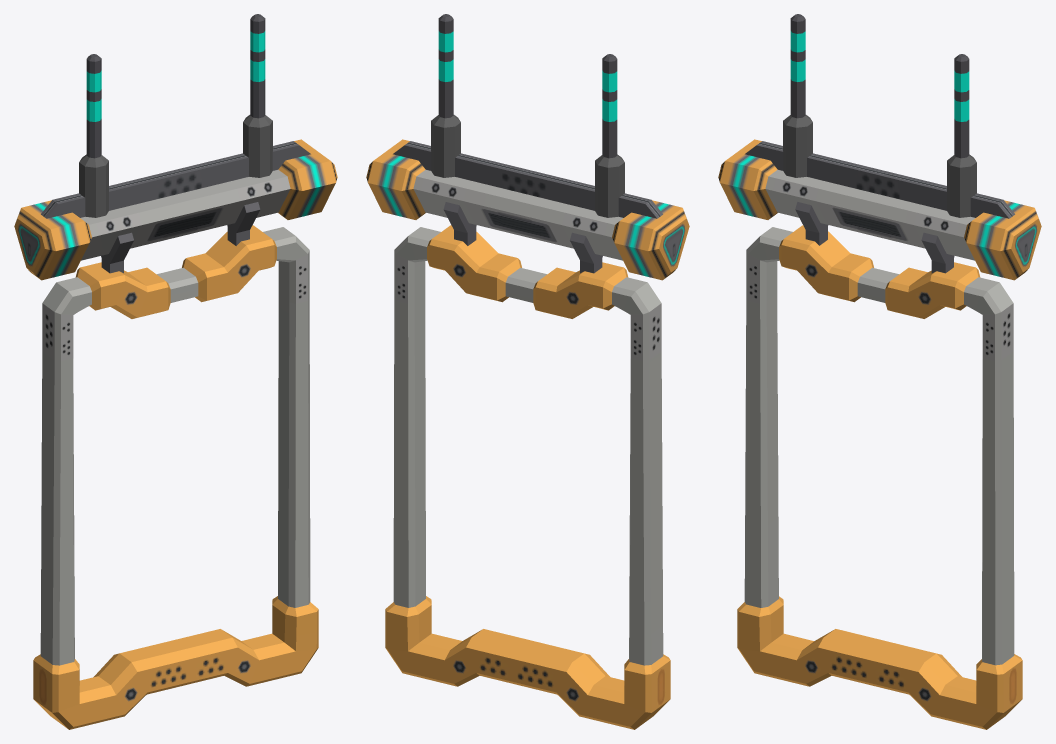
The model's file is worlds_SM_Prop_Monitor_05.gltf.
3 renders of one model, left to right at view 1: azimuth 30°, elevation 25°; view 2: azimuth 150°, elevation 25°; view 3: azimuth 330°, elevation 25°, orthographic.
Parts seen in each view (by area): view 1: SM_Prop_Monitor_05; view 2: SM_Prop_Monitor_05; view 3: SM_Prop_Monitor_05.
Part boxes in pixels (left/top/right/bottom): SM_Prop_Monitor_05: left=14, top=14, right=337, bottom=729; SM_Prop_Monitor_05: left=366, top=14, right=689, bottom=729; SM_Prop_Monitor_05: left=718, top=14, right=1041, bottom=729.
Size of the model in its own units: 0.6199 by 1.33 by 0.1469.
2 materials, 2 textured.
